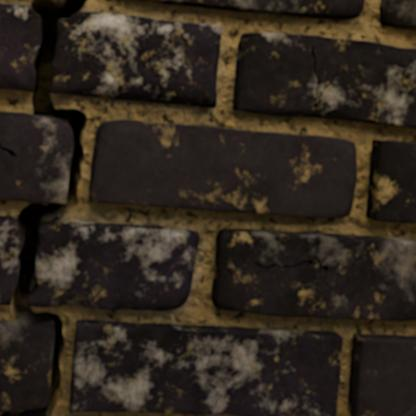brick: (70, 320, 341, 415), (89, 120, 355, 216), (212, 229, 415, 320), (233, 34, 415, 126), (0, 112, 72, 201), (348, 335, 415, 415), (0, 322, 53, 411), (141, 0, 363, 18), (366, 141, 415, 222), (380, 0, 415, 29)
broken_brick: (51, 11, 222, 108), (29, 219, 199, 311), (0, 3, 39, 92), (0, 215, 21, 305)
crack: (0, 0, 87, 415), (73, 362, 82, 365)
